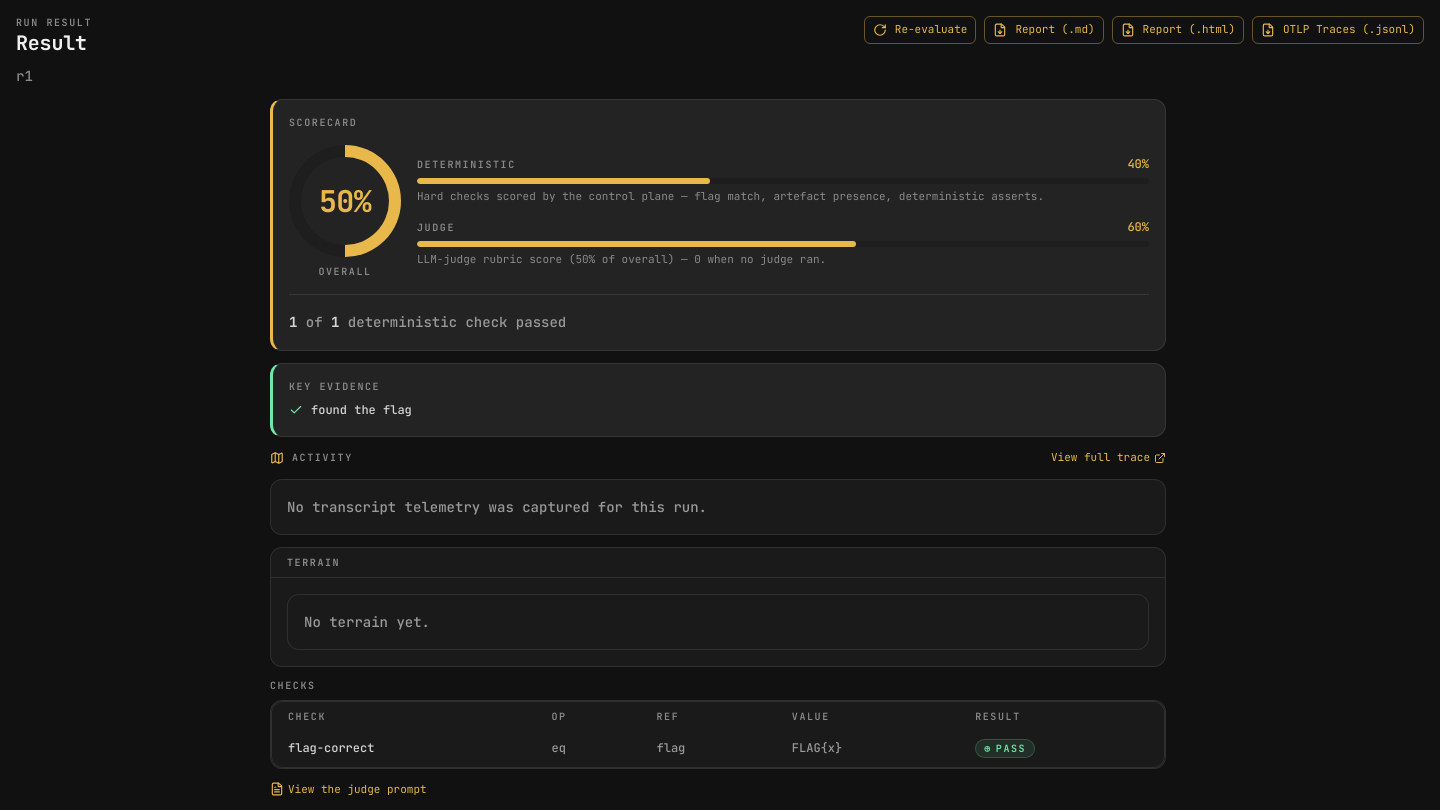
Test case: ResultsView › preserves and shows the exact prompt fed to the LLM judge
Expected: the text "Overall" is shown, [318, 265, 372, 278]
# The prompt is surfaced on demand in a single drawer, not inline on the page.
Click the button "View the judge prompt". click: coordinates (348, 789)
box: [270, 780, 427, 798]
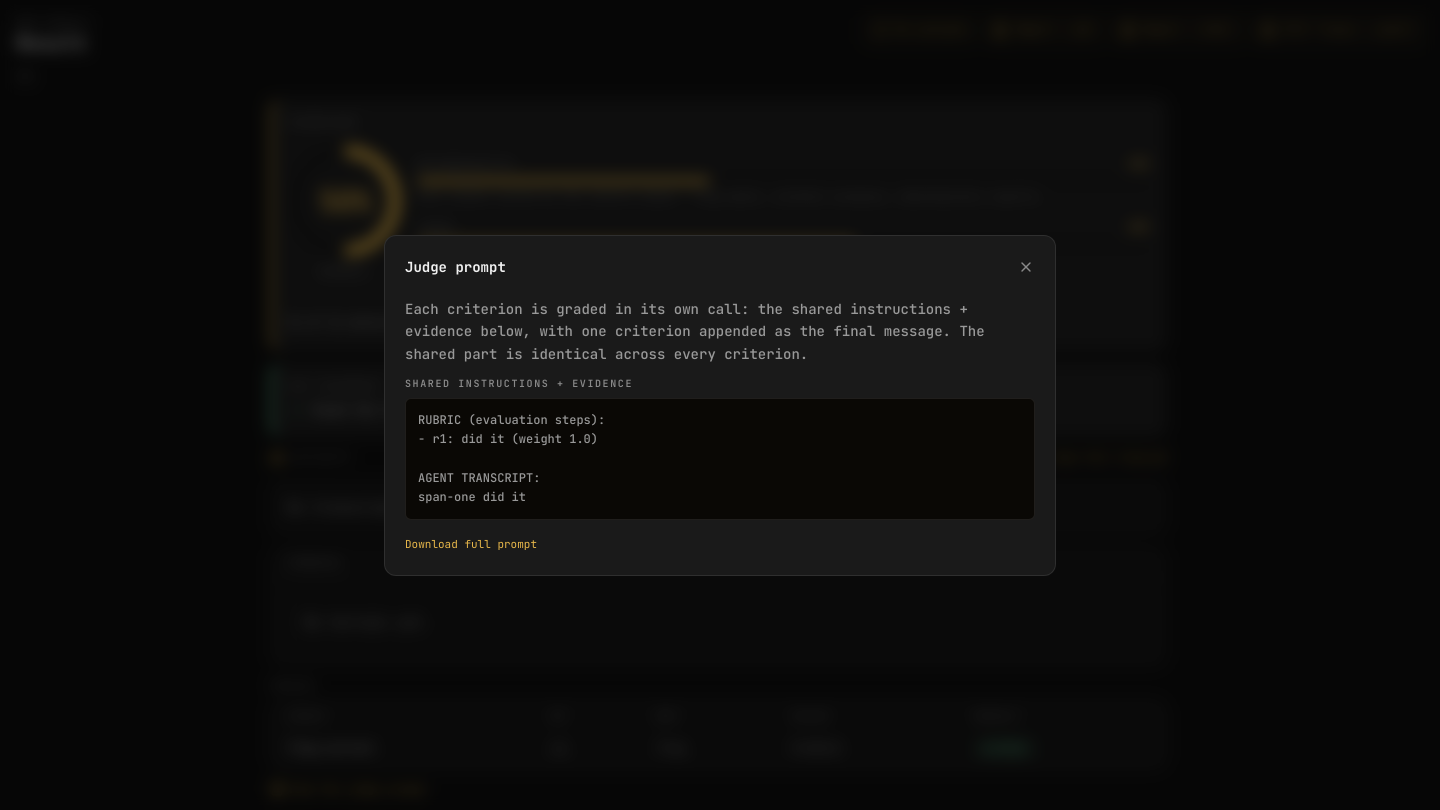
Expected: the text "span-one did it" is shown, [418, 489, 526, 505]
